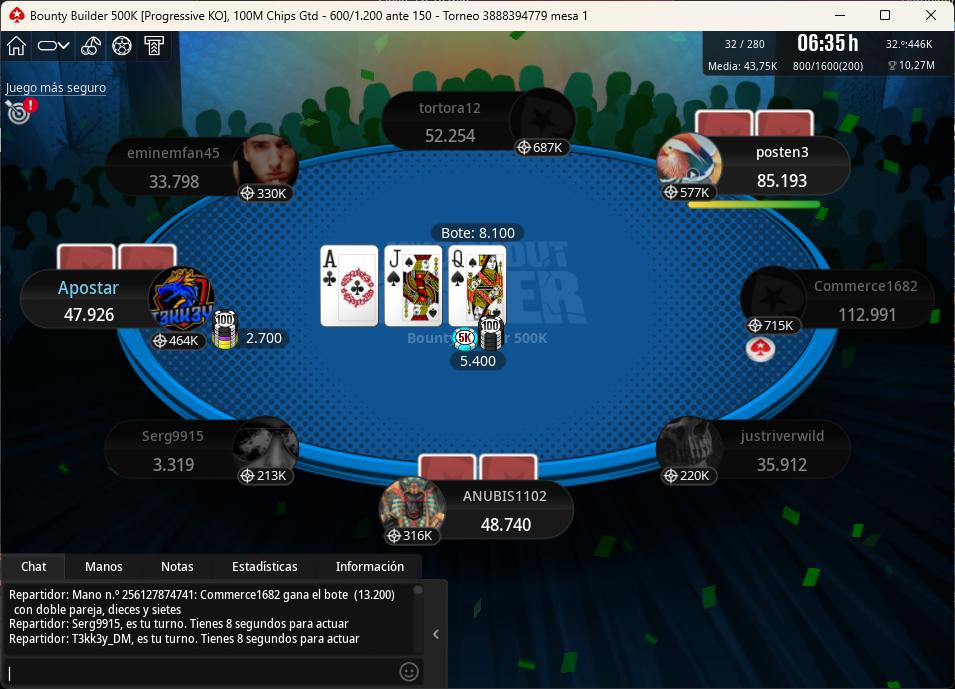HiddenCards: (56, 241, 181, 275), (695, 109, 818, 142), (417, 451, 539, 482)
Player: (653, 414, 852, 488), (101, 415, 303, 487), (656, 131, 854, 201), (107, 130, 302, 201), (383, 86, 575, 158), (19, 269, 217, 338), (738, 263, 937, 330), (379, 477, 577, 543)
PlayerBet: (205, 305, 295, 355)
PlayerChips: (836, 300, 901, 327), (142, 450, 203, 478), (479, 508, 541, 534), (753, 450, 811, 477), (61, 305, 128, 327), (140, 170, 210, 191), (420, 123, 482, 144), (754, 171, 813, 190)
Pot: (431, 220, 523, 243)
PrincipalPlayer: (374, 476, 576, 544)
ShowedCards: (315, 241, 508, 331)
ShowedCards1: (319, 245, 384, 332)
ShowedCards2: (383, 246, 447, 330)
ShowedCards3: (446, 246, 511, 332)
TablePot: (452, 316, 513, 379)
